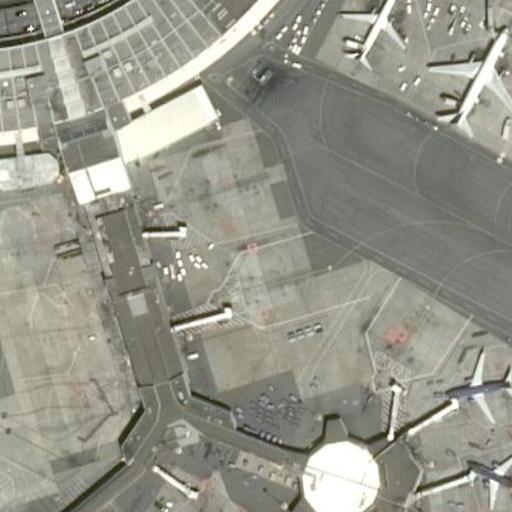Aircraft: (426, 14, 512, 136), (435, 338, 512, 428), (331, 0, 409, 74), (462, 445, 512, 512)
